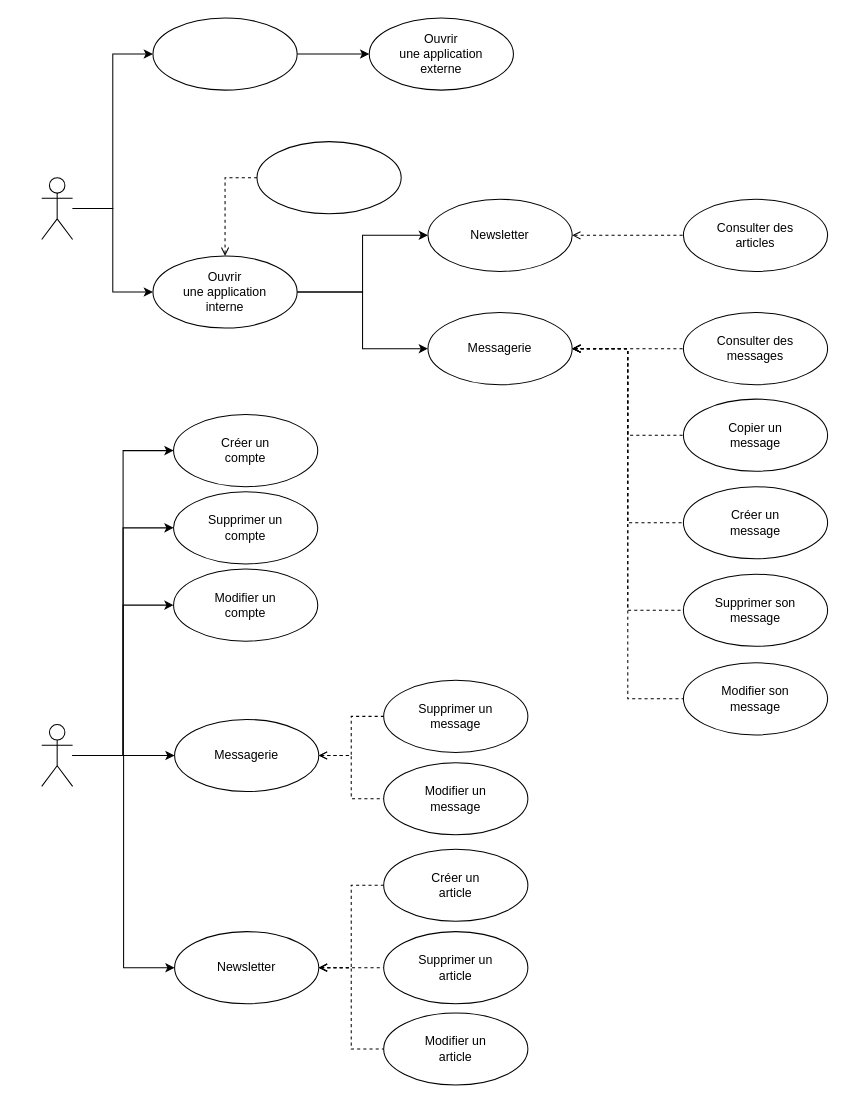
The diagram is 846 pixels wide and 1103 high, and some of its shapes have lost their labels. The centre of each missing label's shape, as x and y in pixels:
Administrateur: (x=57, y=755)
Ajouter des applications externe: (x=224, y=53)
Configurer la connexion au serveur: (x=328, y=177)
Utilisateur: (x=57, y=208)
